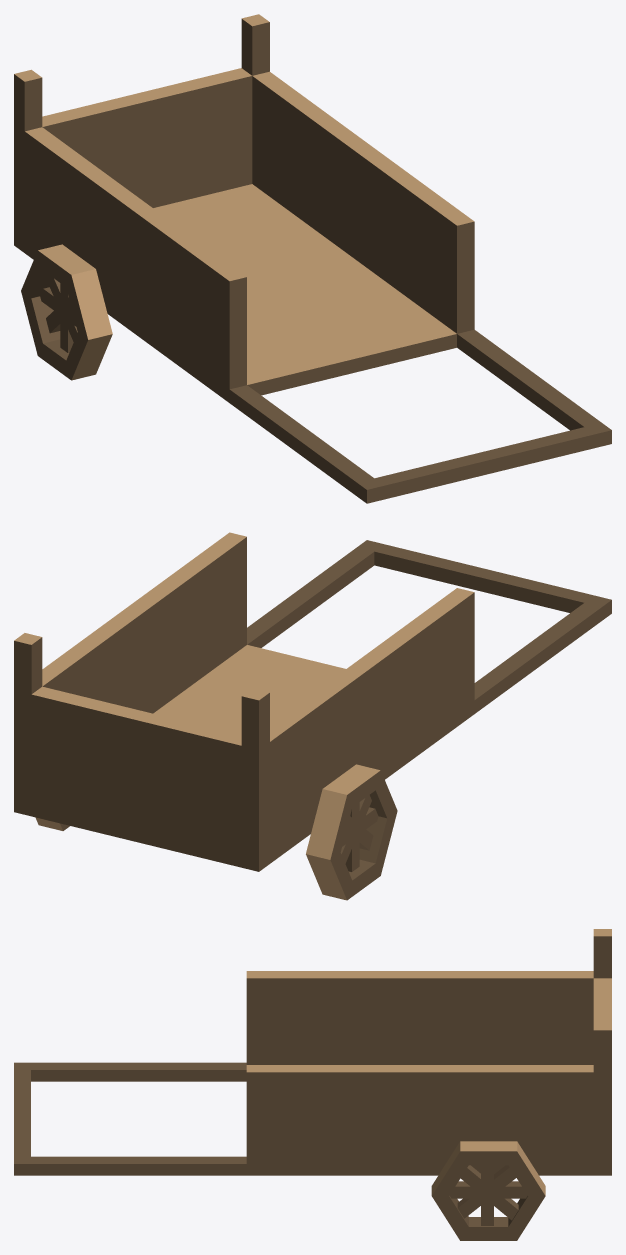
File: Wheelbarrow.fbx
3 renders of one model, top to bottom at view 1: azimuth 30°, elevation 25°; view 2: azimuth 150°, elevation 25°; view 3: azimuth 270°, elevation 25°, orthographic. The views are drawn at different scales.
Visible parts, largest first — view 1: Wheelbarrow; view 2: Wheelbarrow; view 3: Wheelbarrow.
Part boxes in pixels (x1=…): Wheelbarrow: x1=14, y1=14, x2=611, y2=503; Wheelbarrow: x1=14, y1=532, x2=611, y2=900; Wheelbarrow: x1=14, y1=929, x2=611, y2=1240.
Size of the model in its own units: 185 by 134 by 367.
